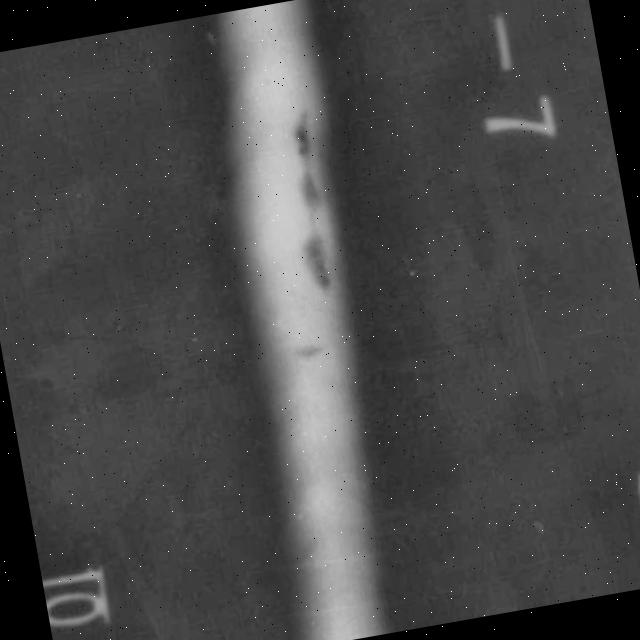Pore: (280, 334, 338, 370)
Slag: (262, 102, 344, 298)
